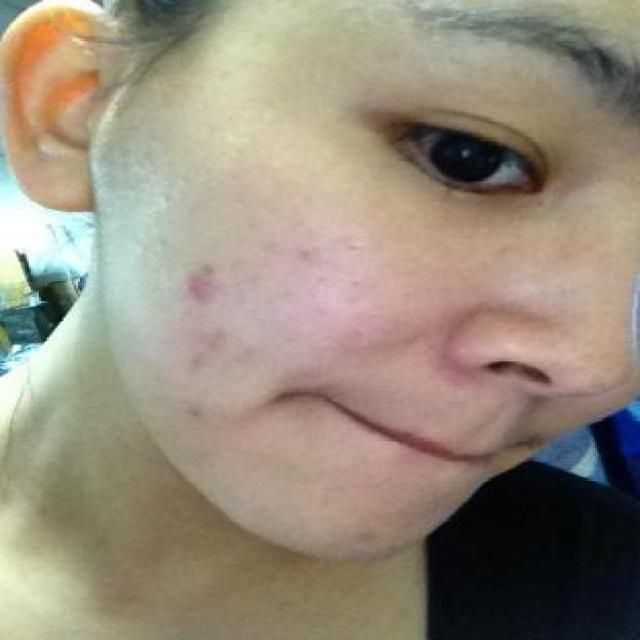dark spot: (174, 265, 230, 312), (191, 322, 244, 352), (291, 238, 328, 270), (175, 351, 218, 374), (347, 523, 388, 545), (185, 402, 213, 423)
